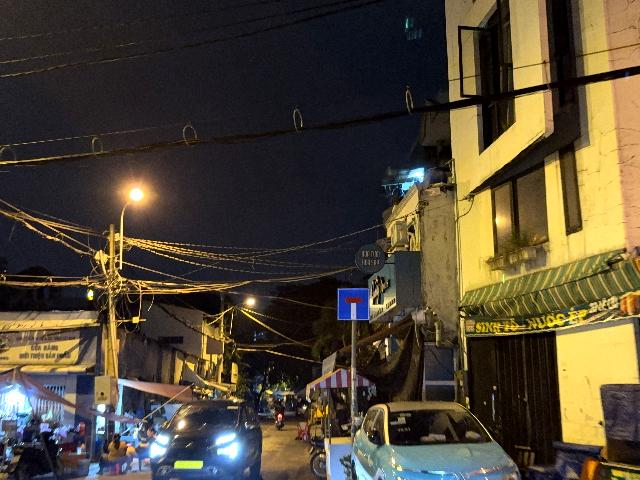duong-cut: (337, 288, 369, 320)
